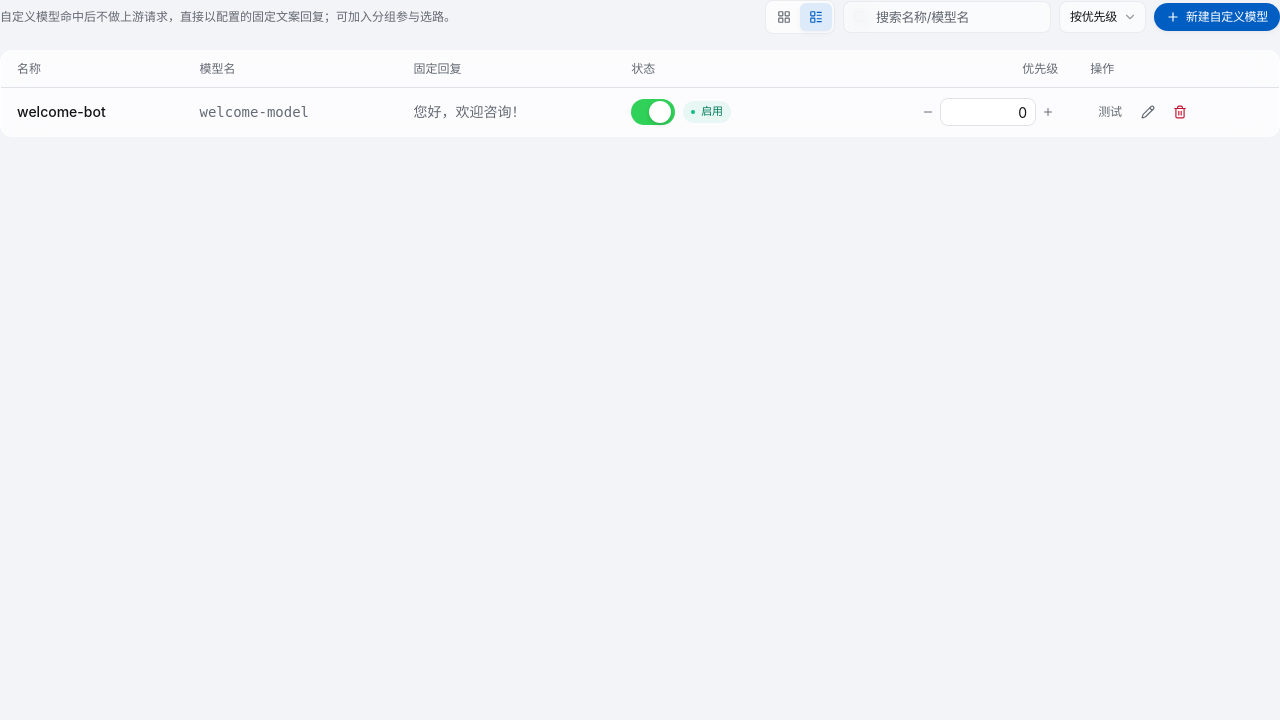
<CustomModelsPage /> › 编辑：模型名锁定不可修改
Expected: the text "welcome-bot" is shown, [1,88,184,136]
Click the button named "编辑自定义模型 welcome-bot": (1148, 112) [1134,98,1162,126]
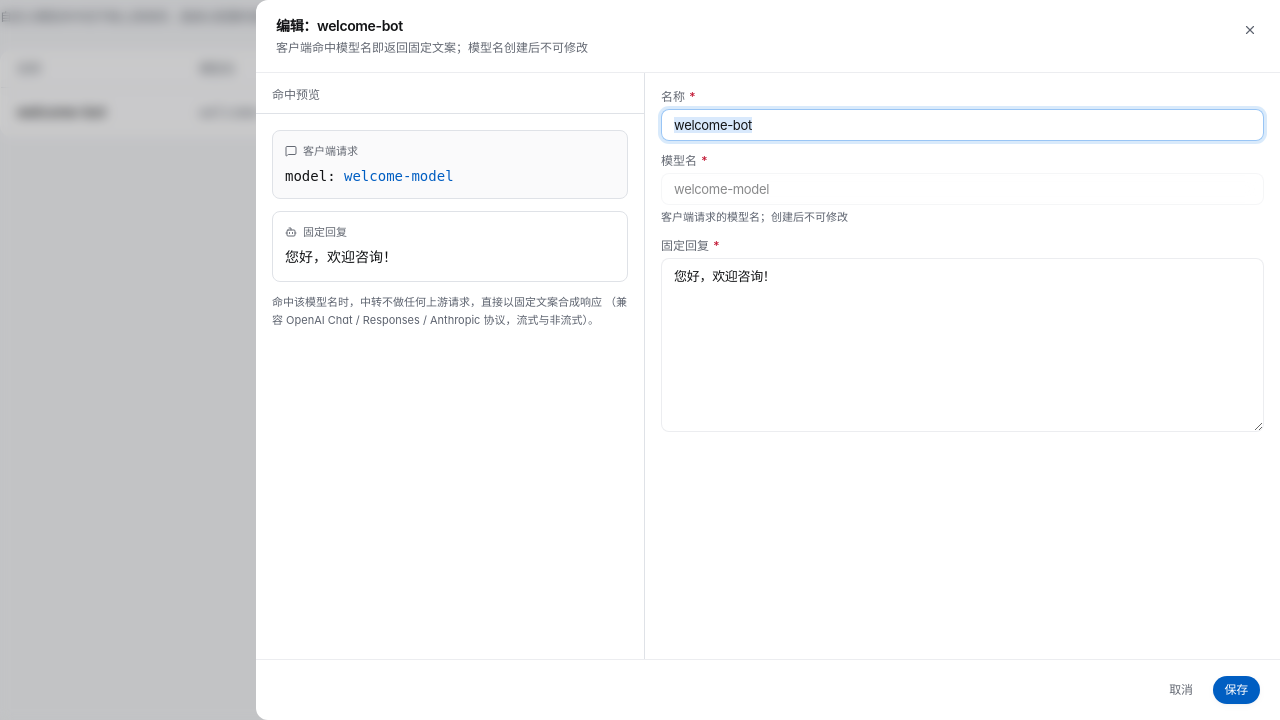
Expected: the dialog is shown
Expected: the field labelled "模型名 * 客户端请求的模型名；创建后不可修改" is disabled, [661,173,1264,205]
Expected: the field labelled "模型名 * 客户端请求的模型名；创建后不可修改" holds "welcome-model", [661,173,1264,205]
